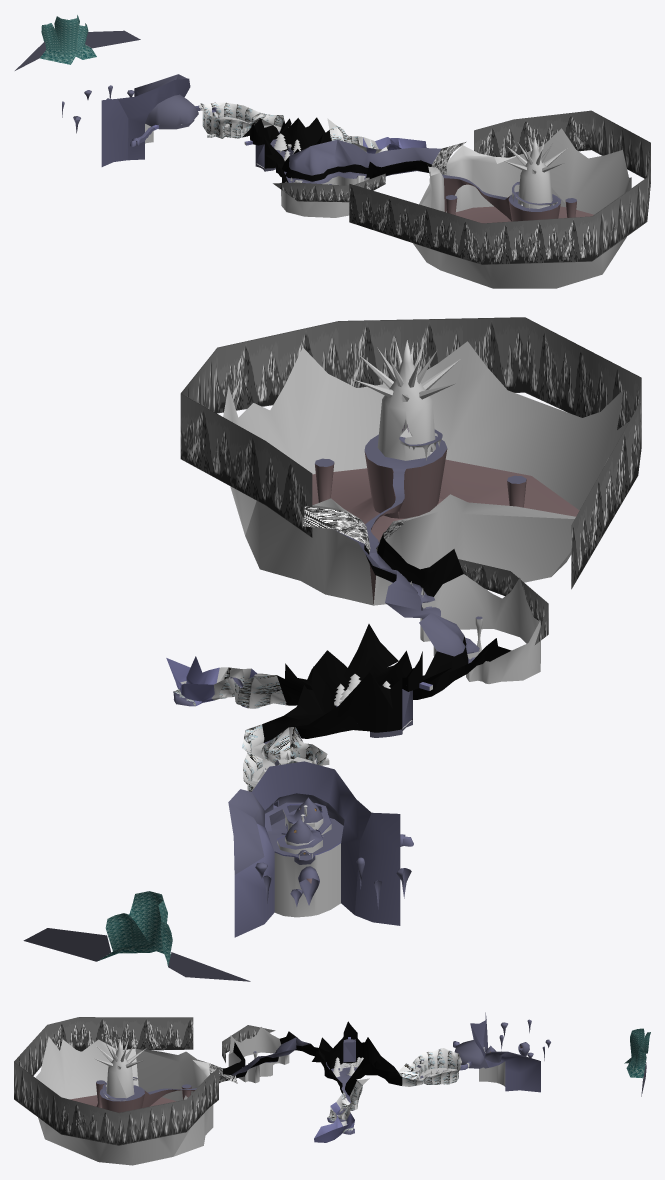
The model's file is Snowhead.obj.
The picture shows the model from 3 angles, top to bottom: view 1: azimuth 30°, elevation 25°; view 2: azimuth 150°, elevation 25°; view 3: azimuth 270°, elevation 25°; orthographic projection. The views are drawn at different scales.
Size of the model in its own units: 12679 by 4864 by 24232.
